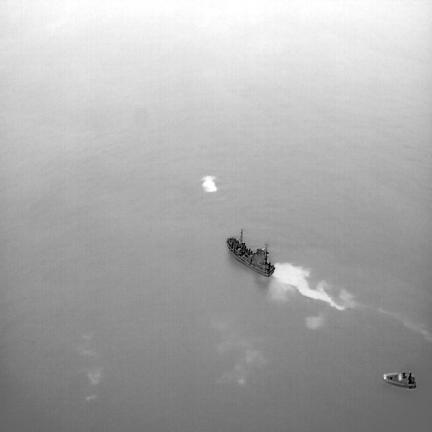flukeprints: (202, 176, 217, 192)
